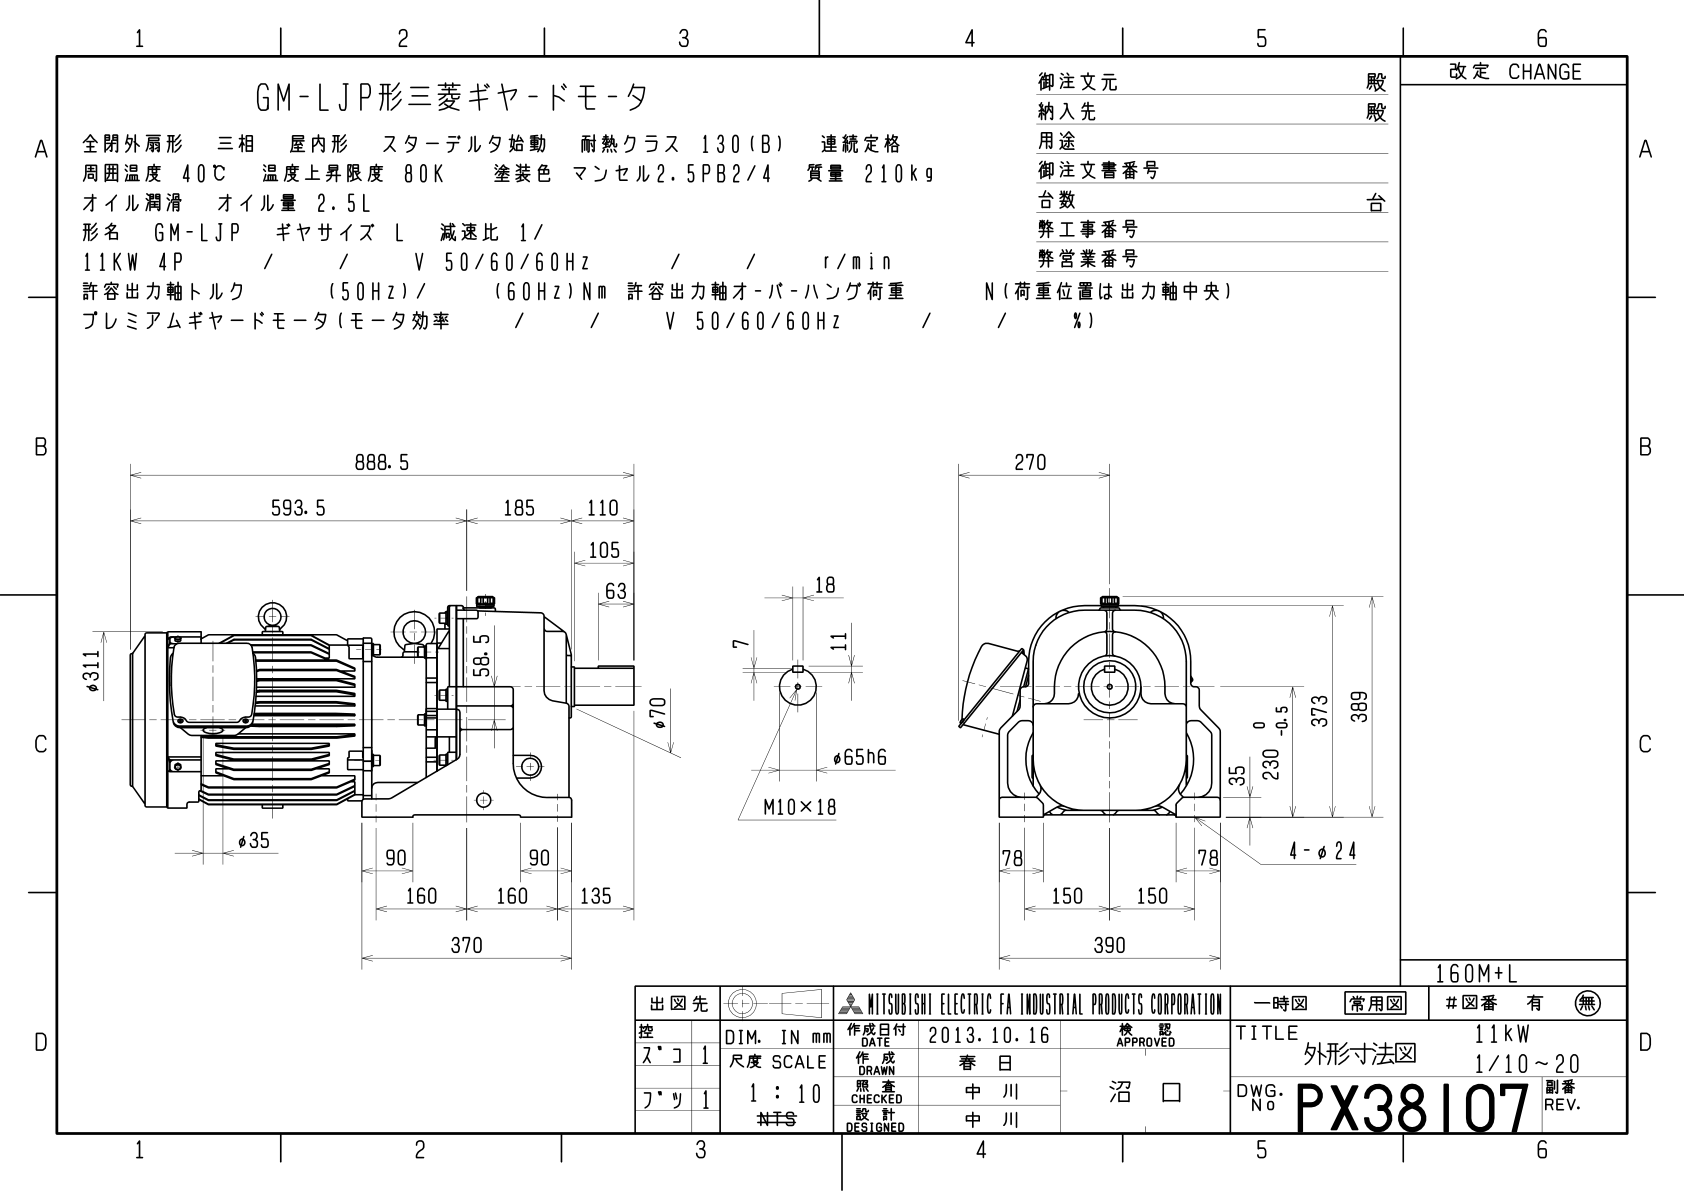GM_LJP_屋内_三相_脚: (1, 1, 1666, 1178)
